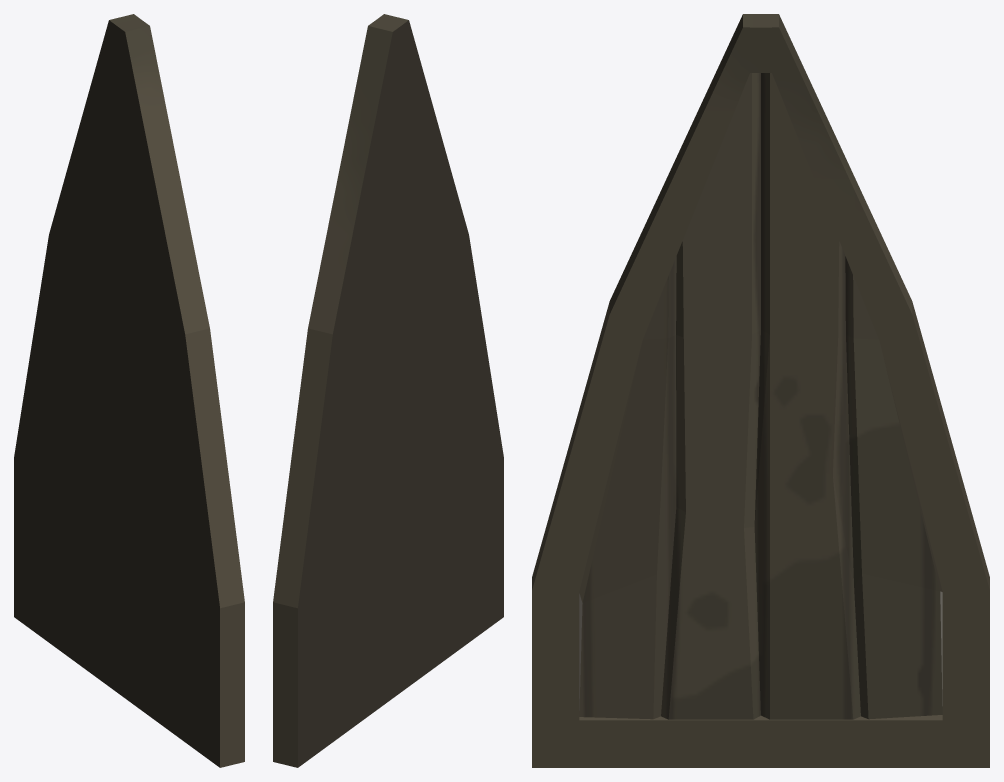
The model's file is Small Window 2.fbx.
3 renders of one model, left to right at view 1: azimuth 30°, elevation 25°; view 2: azimuth 150°, elevation 25°; view 3: azimuth 270°, elevation 25°, orthographic. The views are drawn at different scales.
Parts seen in each view (by area): view 1: Small Window 2; view 2: Small Window 2; view 3: Small Window 2.
Boxes of the visible parts, box(x1,y1,x2,y2) form: Small Window 2: box(14, 14, 244, 767); Small Window 2: box(273, 14, 503, 767); Small Window 2: box(532, 14, 989, 767).
Bounding box in the file's own units: 8.41 × 216 × 121.
